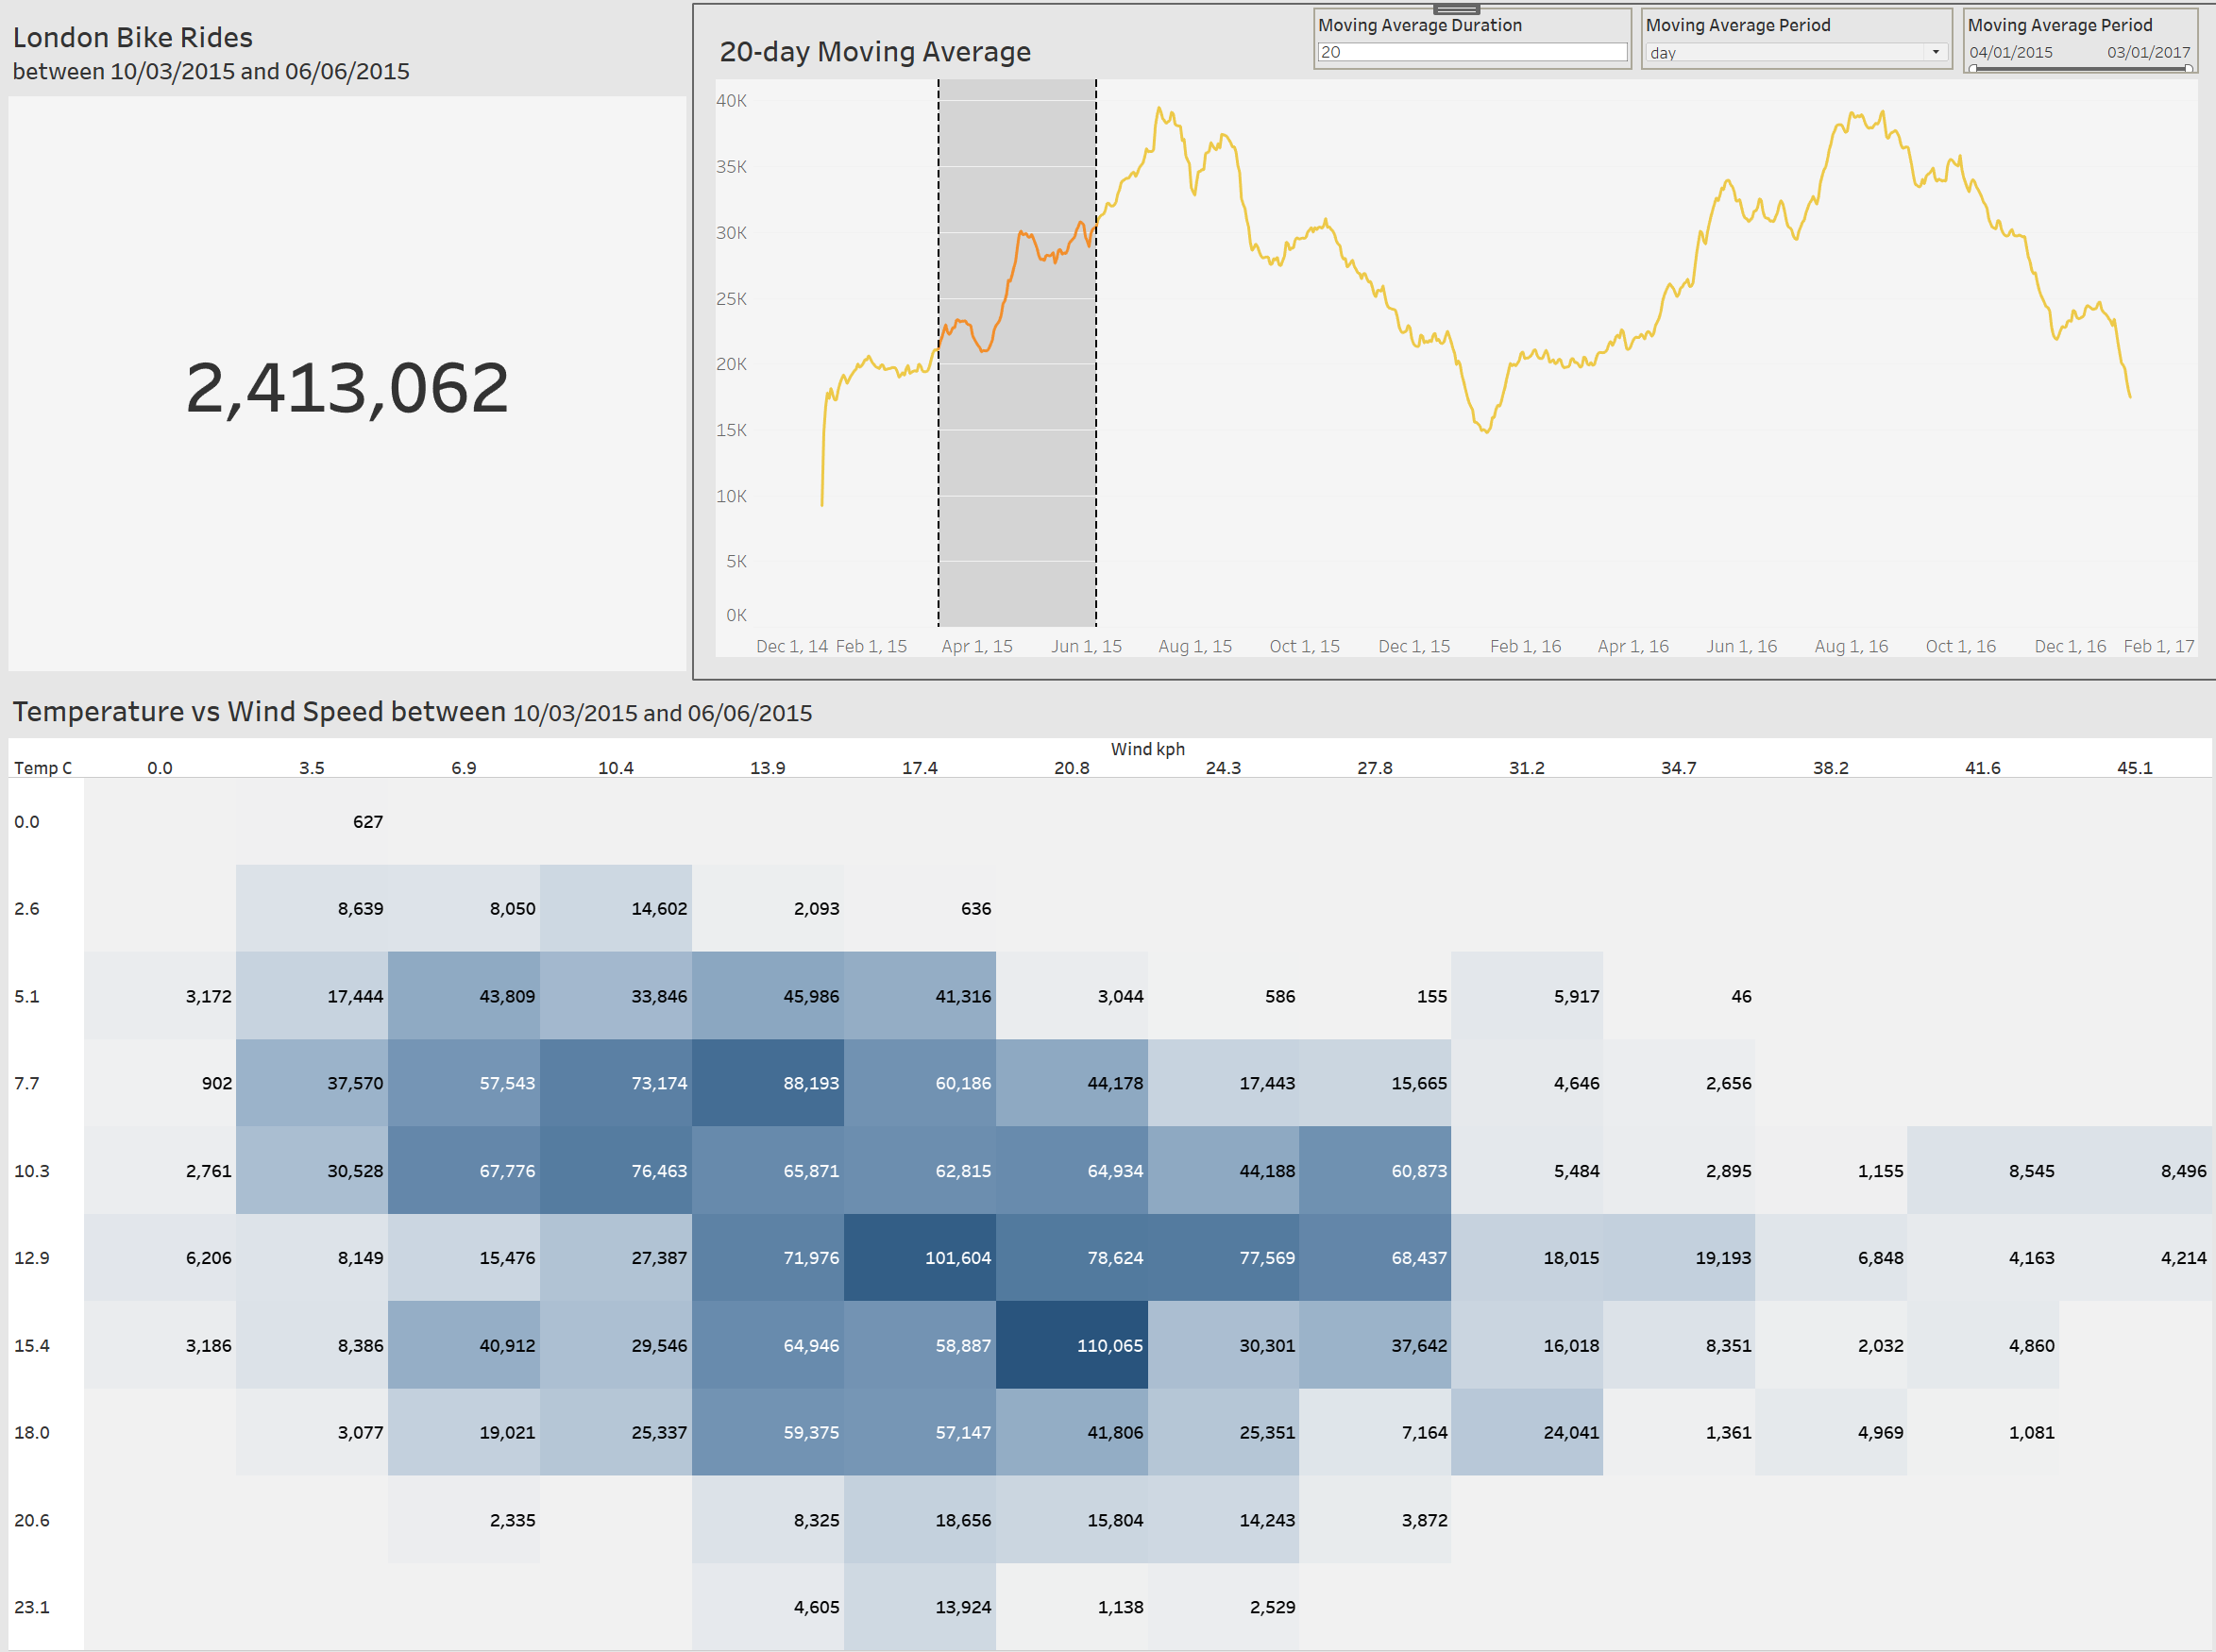

This screenshot's page, from the dashboard's own definition file:
{"tool":"tableau","page":{"name":"Dashboard 1","canvas":[2366,1768],"ordinal":0},"visuals":[{"type":"worksheet","title":"Total Rides","mark":"Automatic","box":[8,8,733.6,714]},{"type":"worksheet","title":"Moving Average","mark":"Automatic","rows":["Calculation1"],"cols":["Calculation_1069042006722904065"],"box":[741.6,8,1616.4,714]},{"type":"parameter","param":"[Parameters].[Parameter 2]","box":[1398,11,338,66]},{"type":"parameter","param":"[Parameters].[Parameter 1]","box":[1745,11,331,66]},{"type":"filter","title":"Moving Average","param":"[federated.04j3bi10s4rv9r15js3n11g6i5js].[none:Calculation_1069042006722904065:q","box":[2086,11,250,70]},{"type":"worksheet","title":"Heatmap","mark":"Square","rows":["Temp Real C (bin)"],"cols":["Wind Speed kph (bin)"],"box":[8,722,2350,1038]}]}

Visuals, with their boxes in screenshot pixels (x1, y1, x2, y2), scaled from the page's 2366x1768 canvas onto the 2216x1652 screenshot:
"Total Rides" worksheet: [x1=8, y1=8, x2=695, y2=675]
"Moving Average" worksheet: [x1=695, y1=8, x2=2208, y2=675]
parameter: [x1=1310, y1=10, x2=1626, y2=72]
parameter: [x1=1634, y1=10, x2=1944, y2=72]
"Moving Average" filter: [x1=1954, y1=10, x2=2188, y2=76]
"Heatmap" worksheet (Square marks): [x1=8, y1=675, x2=2208, y2=1644]
